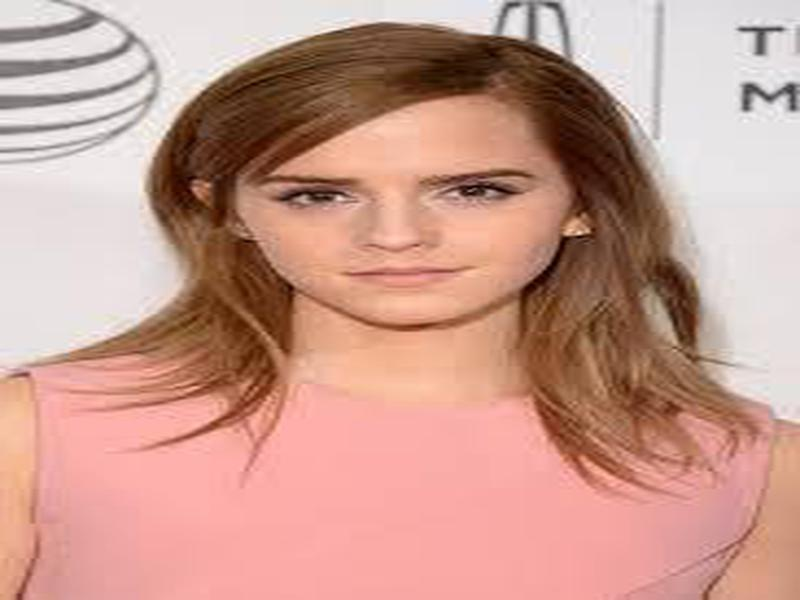without_mask: (242, 118, 557, 325)
